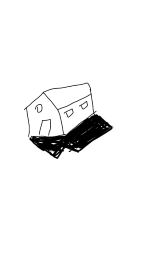door: (37, 116, 55, 136)
open_window: (65, 108, 76, 120), (78, 101, 90, 112)
roof: (23, 80, 93, 113)
shadow: (28, 112, 119, 160)
small_house: (1, 1, 161, 260)
wall: (26, 108, 65, 140)
